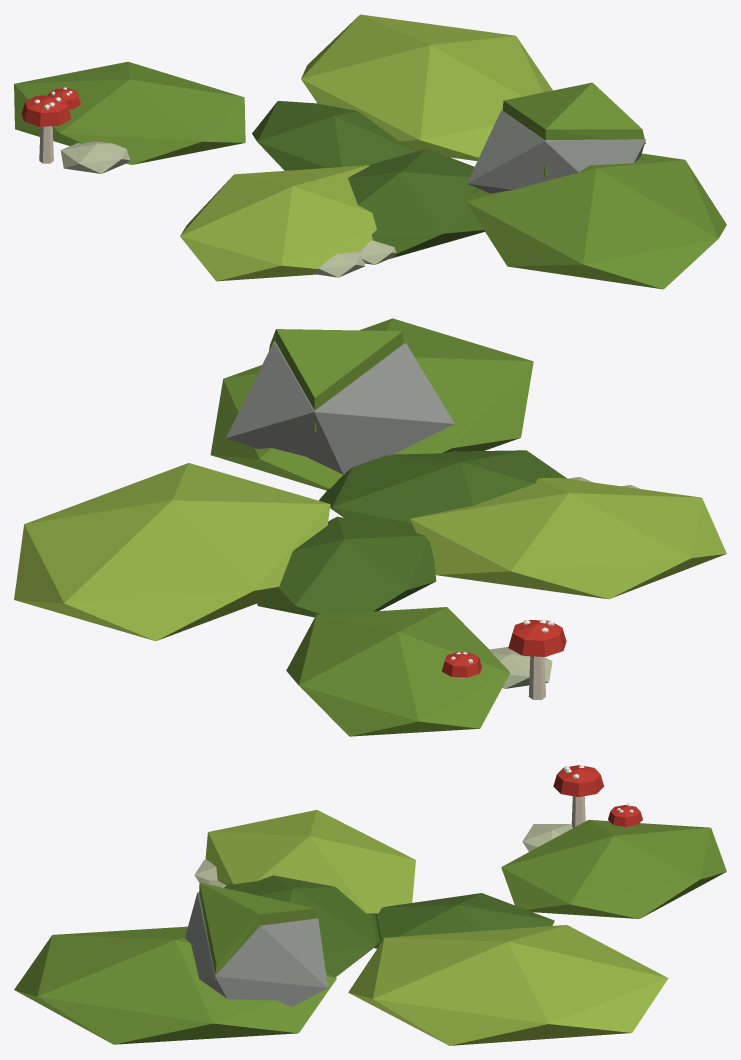
The model's file is forest_patch_moss.glb.
3 renders of one model, top to bottom at view 1: azimuth 30°, elevation 25°; view 2: azimuth 150°, elevation 25°; view 3: azimuth 270°, elevation 25°, orthographic. The views are drawn at different scales.
Visible parts, largest first — view 1: forest_patch_moss; view 2: forest_patch_moss; view 3: forest_patch_moss.
Boxes of the visible parts, x1,y1,x2,y2 form: forest_patch_moss: (14,14,726,289); forest_patch_moss: (14,318,726,736); forest_patch_moss: (14,765,726,1045).
Bounding box in the file's own units: 2.33 × 0.4788 × 3.06.
